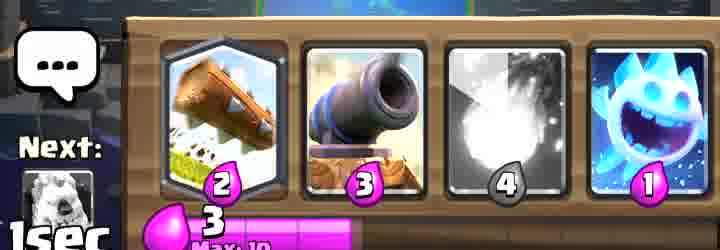cannon: (311, 49, 427, 199)
ice-spirit: (595, 45, 710, 200)
log: (167, 42, 280, 187)
